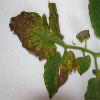Tomato Septoria leaf spot: (7, 11, 58, 60), (42, 48, 79, 100), (47, 2, 67, 40), (87, 1, 100, 44), (84, 67, 99, 99), (75, 54, 91, 78)
